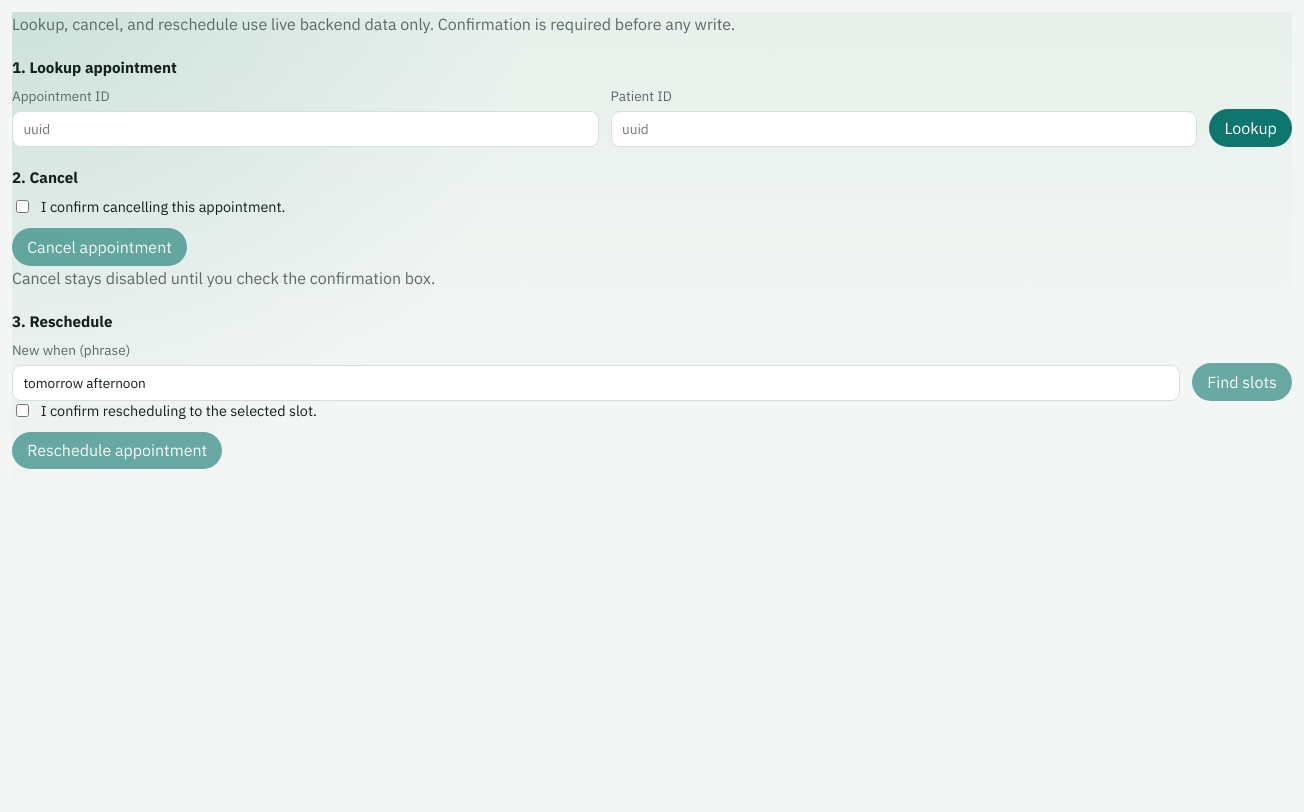
AppointmentManagePanel (KAN-110) › TC-003 reschedule uses only slots from checkAvailability
The width and height of the screenshot is (1304, 812).
Type "appt-1" into the field with test id "manage-appointment-id" at (305, 129), box [12,111,599,147]
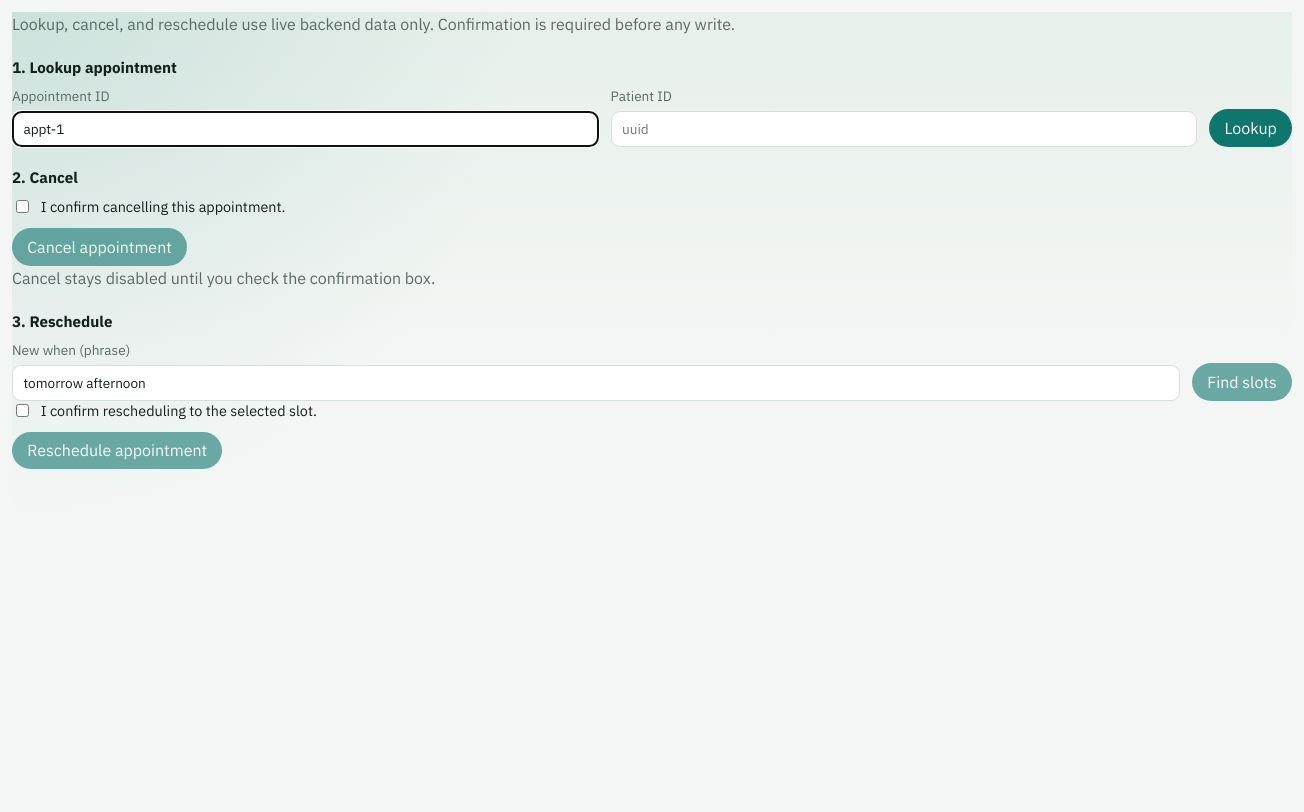
Click the button with test id "manage-lookup" at (1251, 128), box [1209,109,1292,147]
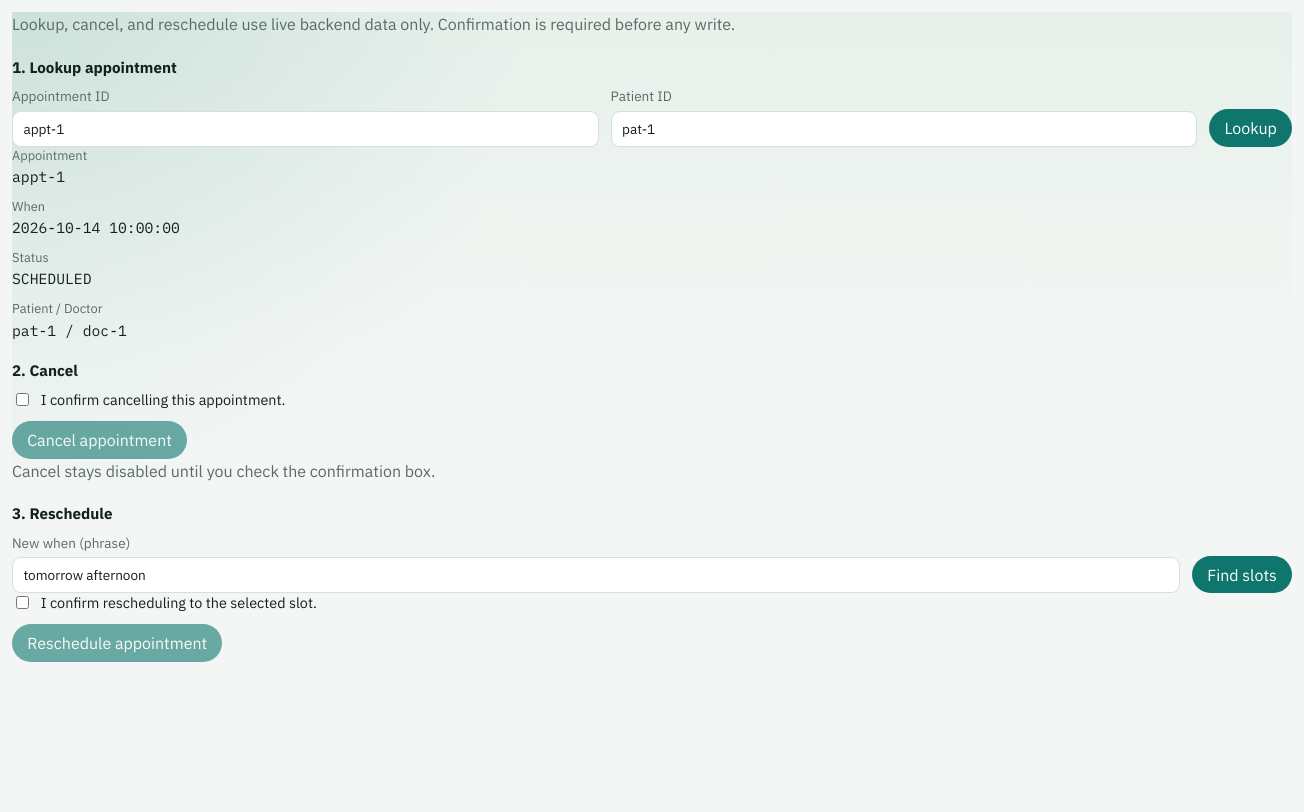
Result: the element with test id "manage-selected" is shown at [12,147,180,340]
Click the button with test id "manage-find-slots" at (1242, 574), box [1192,556,1292,593]
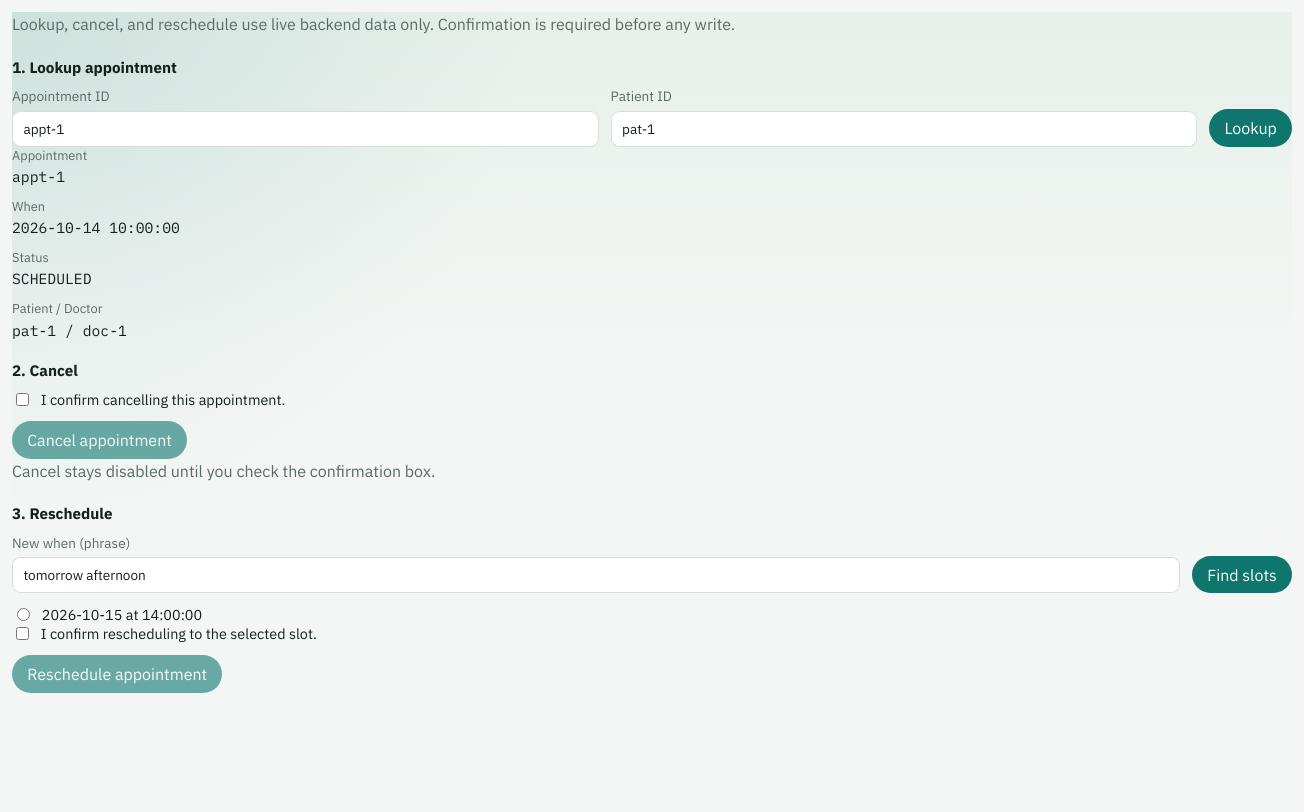
Expected: the list with test id "manage-slot-list" does not show "99:00:00", [17,605,202,624]
Result: the text "appt-1" is shown at [12,167,65,186]
Result: the list with test id "manage-slot-list" shows "14:00:00" at [142,605,202,624]
Click the radio button labelled "2026-10-15 at 14:00:00" at (24, 615), box [17,608,30,621]
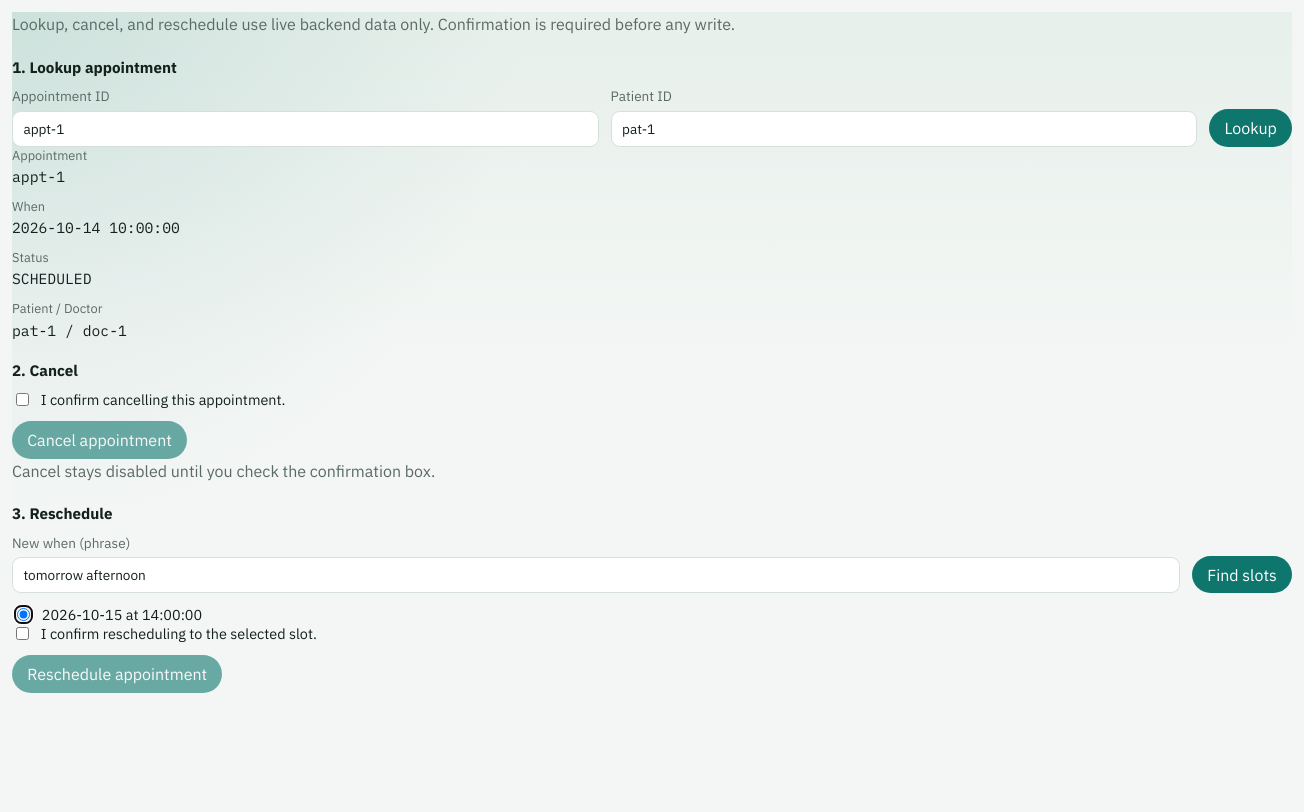
Expected: the button with test id "manage-reschedule" is disabled, [12,655,222,693]
Click the checkbox with test id "manage-reschedule-confirm" at (22, 634), box [16,627,29,640]
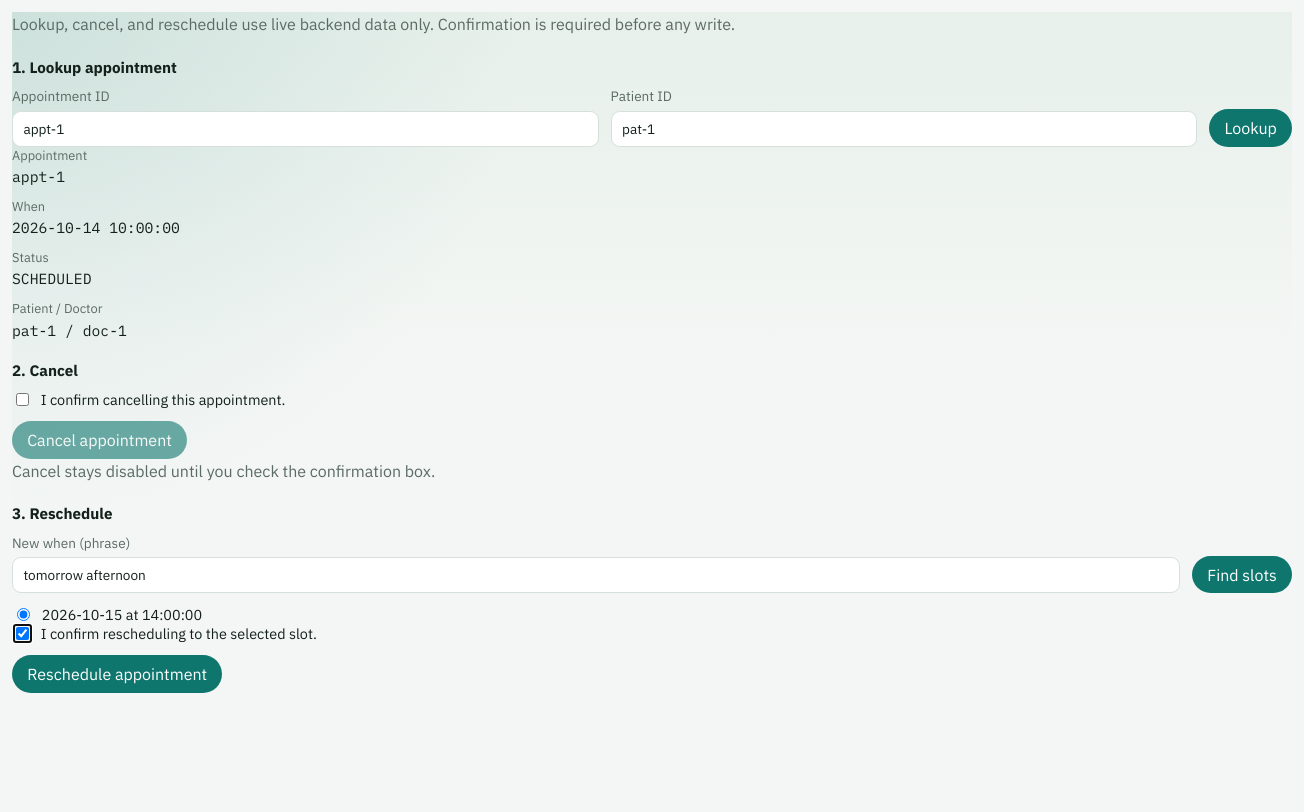
Click the button with test id "manage-reschedule" at (117, 674), box [12,655,222,693]
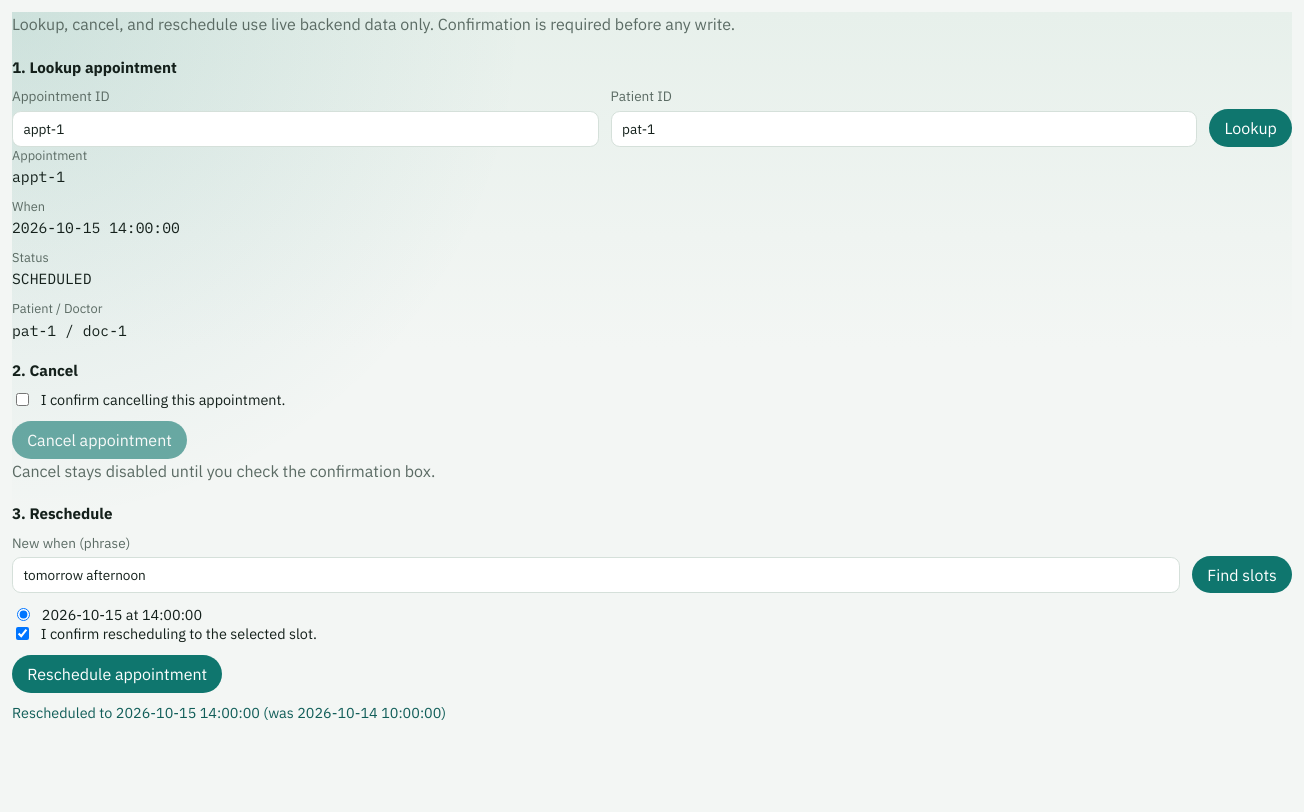
Result: the text with test id "manage-reschedule-success" shows "14:00:00" at [200,703,260,722]
